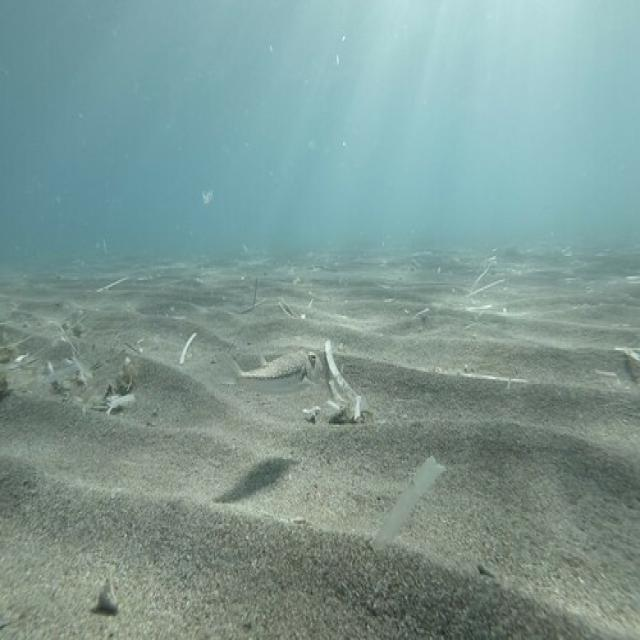Balik: (233, 350, 322, 392)
